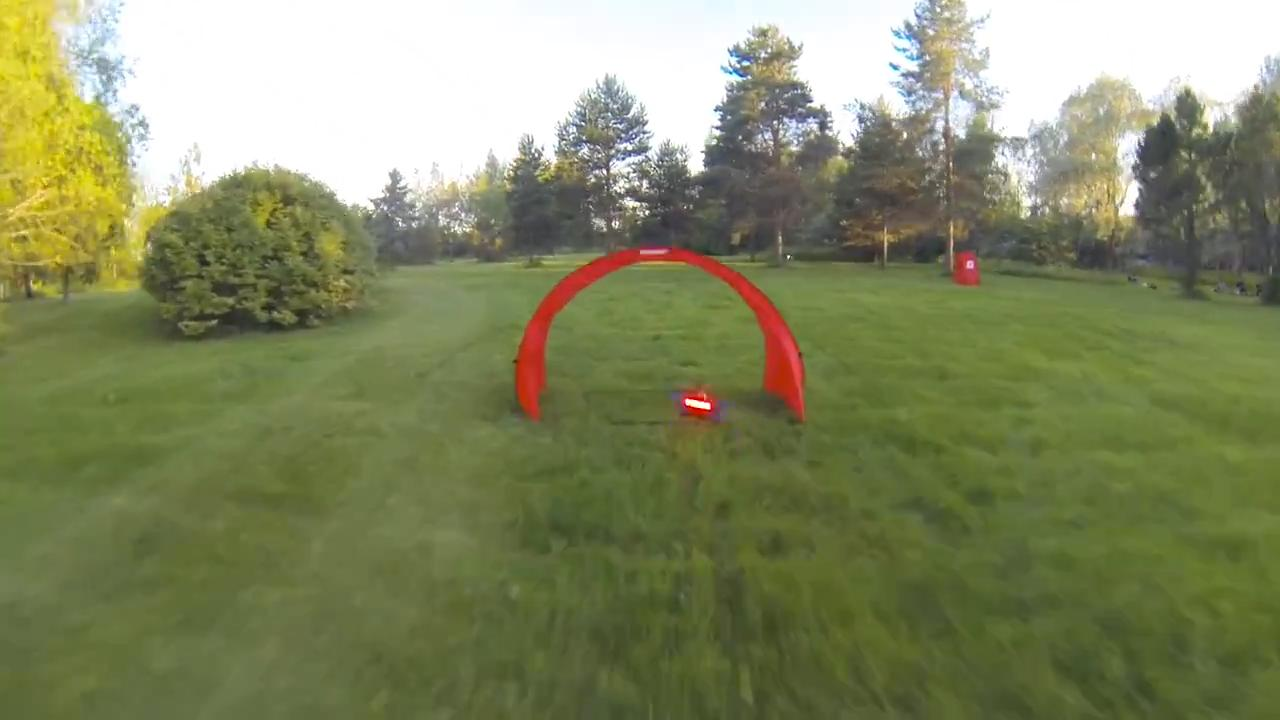gate: (510, 245, 813, 421)
